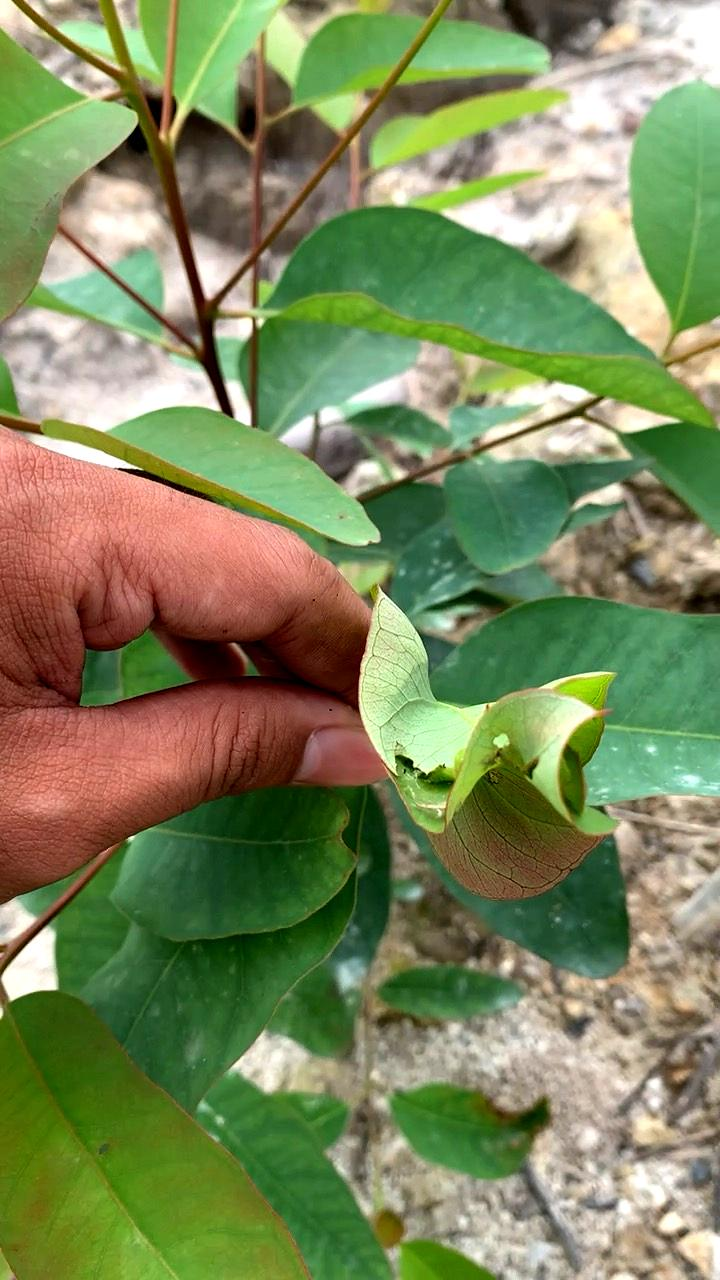Leaf Roller - Leaf: (346, 538, 643, 944)
